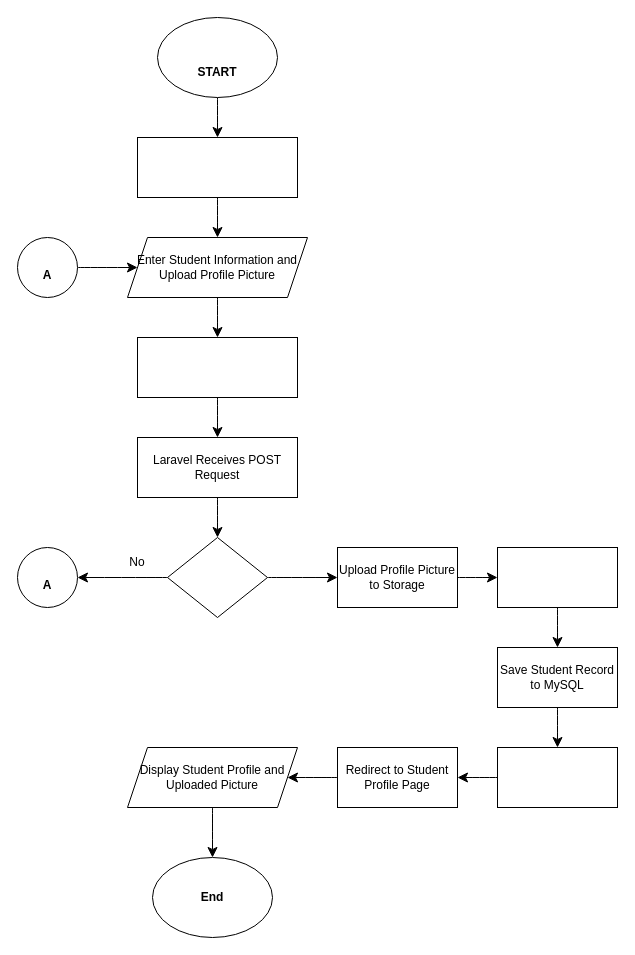
The diagram is 635 pixels wide and 955 high, and some of its shapes have lost their labels. The centre of each missing label's shape, as x and y in pixels:
Create Success Flash Message: the point at 557,777
Is data valid & unique?: the point at 217,577
Open Student Registration: the point at 217,167
Save Image Path: the point at 557,577
Submit Registration Form: the point at 217,367
